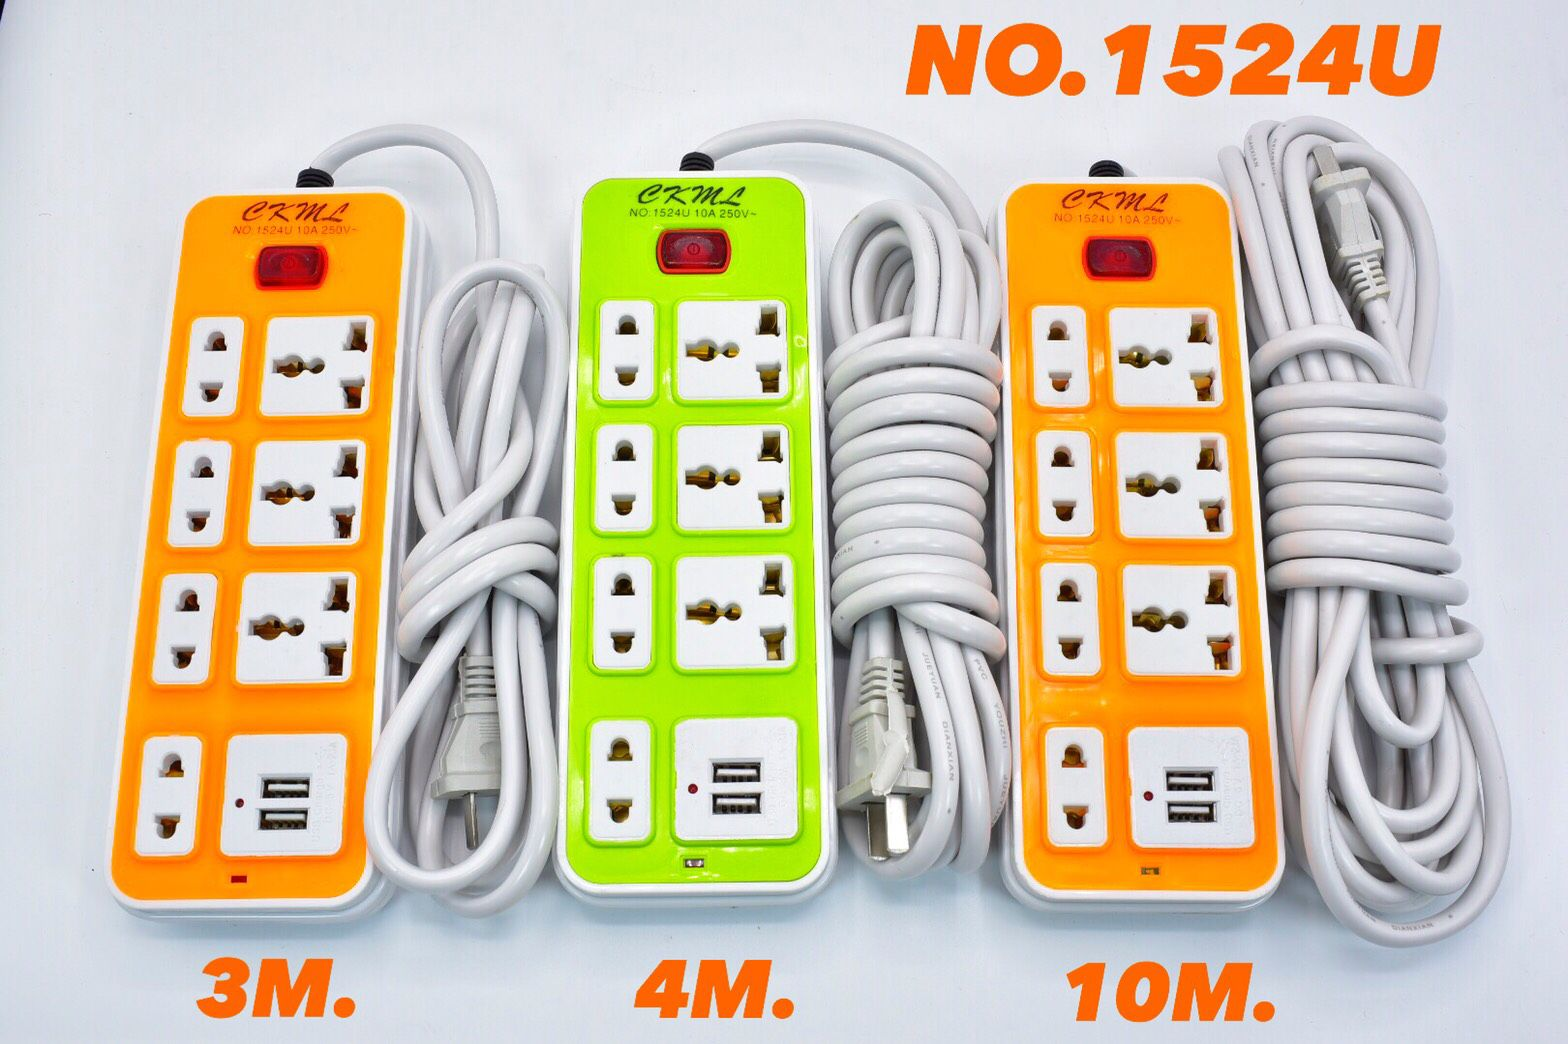Three_eye_plug: (976, 171, 1326, 919), (91, 175, 426, 929), (538, 162, 859, 915)
